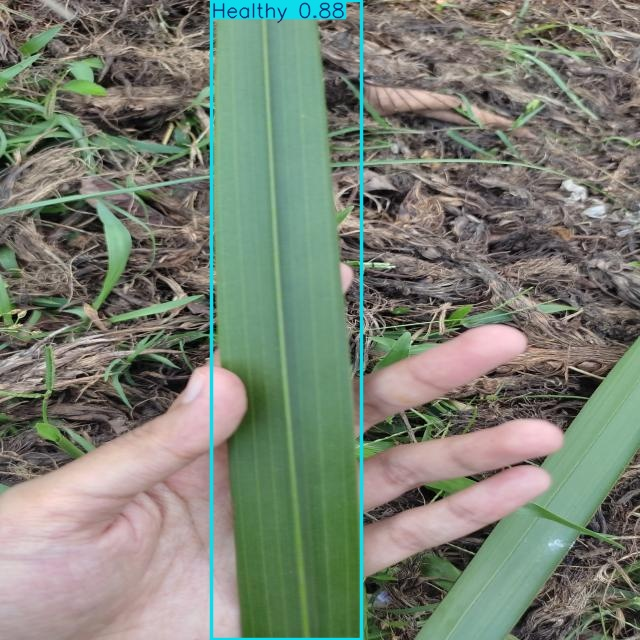Healthy: (211, 0, 362, 640)
